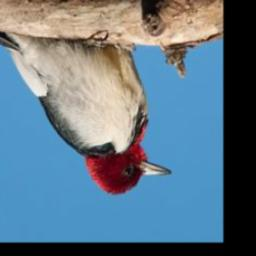Woodpecker: (0, 26, 172, 196)
